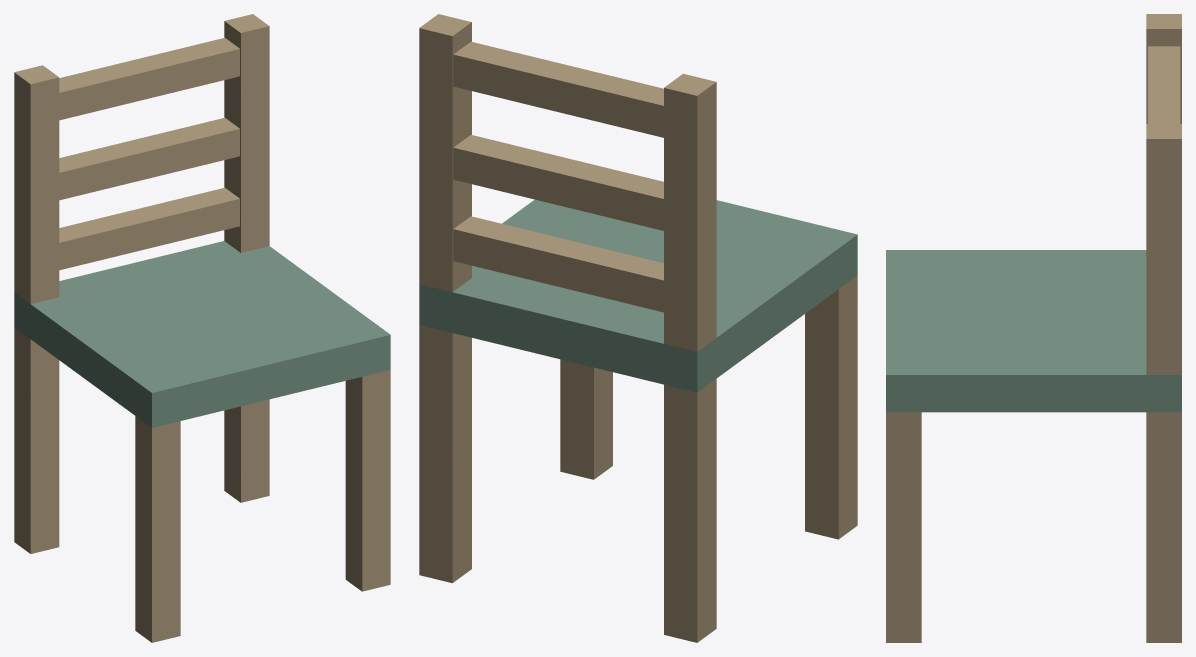
Rendered from ladder_chair.glb.
3 views of the same model, side by side, from view 1: azimuth 30°, elevation 25°; view 2: azimuth 150°, elevation 25°; view 3: azimuth 270°, elevation 25° (orthographic). The views are drawn at different scales.
Visible parts, largest first — view 1: ladder_chair; view 2: ladder_chair; view 3: ladder_chair.
Boxes of the visible parts, <box> form: ladder_chair: <box>14,14,390,642</box>; ladder_chair: <box>419,14,857,642</box>; ladder_chair: <box>886,14,1181,642</box>.
Bounding box in the file's own units: 0.5 × 0.94 × 0.5.
1 material, 1 textured.
